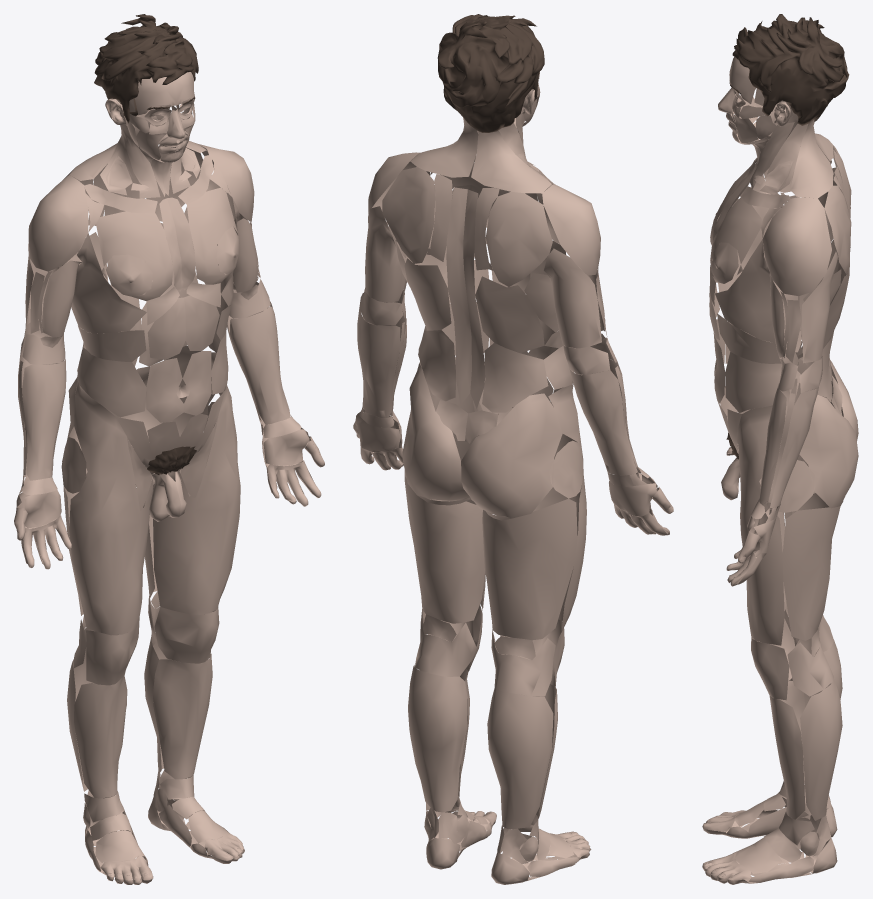
File: piel.glb
The picture shows the model from 3 angles, left to right: view 1: azimuth 30°, elevation 25°; view 2: azimuth 150°, elevation 25°; view 3: azimuth 270°, elevation 25°; orthographic projection. The views are drawn at different scales.
Visible parts, largest first — view 1: piel; view 2: piel; view 3: piel.
Part boxes in pixels (x1=…): piel: x1=14, y1=14, x2=324, y2=884; piel: x1=353, y1=14, x2=673, y2=884; piel: x1=702, y1=14, x2=858, y2=884.
Size of the model in its own units: 0.6797 by 1.74 by 0.295.
